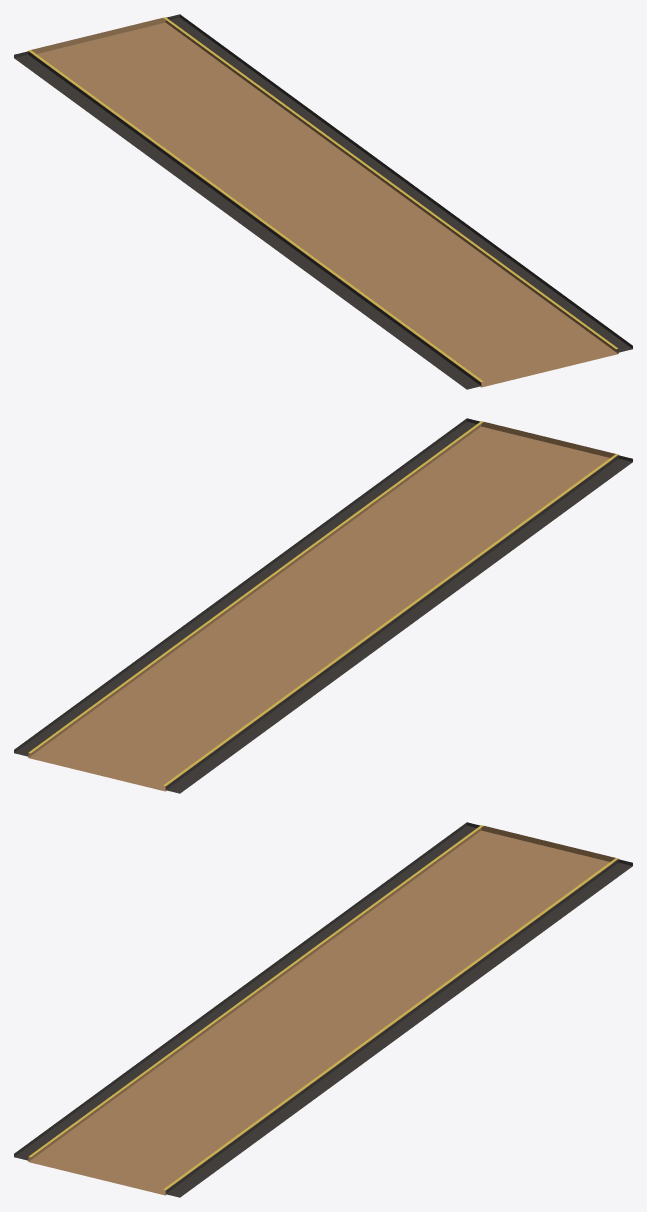
Rendered from bowling_lane_large.glb.
3 views of the same model, one above another, from view 1: azimuth 30°, elevation 25°; view 2: azimuth 150°, elevation 25°; view 3: azimuth 330°, elevation 25° (orthographic).
Parts seen in each view (by area): view 1: Lane; view 2: Lane; view 3: Lane.
Boxes of the visible parts, x1,y1,x2,y2 form: Lane: (14, 14, 632, 389); Lane: (14, 418, 632, 793); Lane: (14, 822, 632, 1197).
Bounding box in the file's own units: 2.54 × 0.08 × 12.
